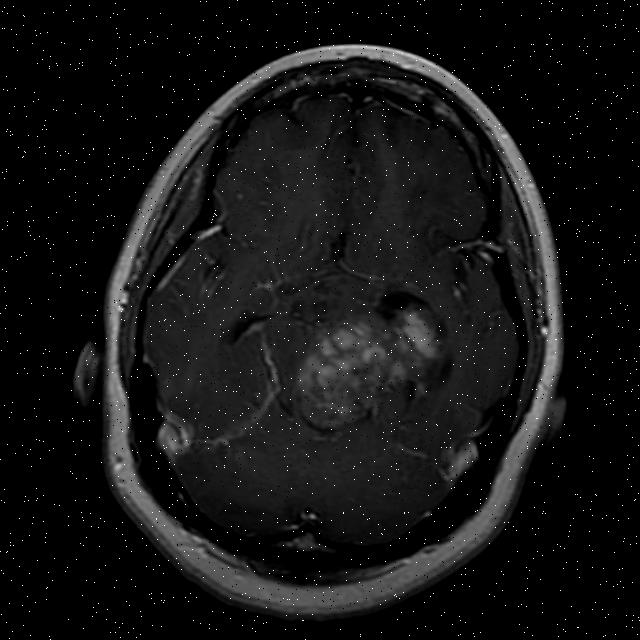Glioma: (291, 307, 414, 421), (391, 299, 449, 365)
